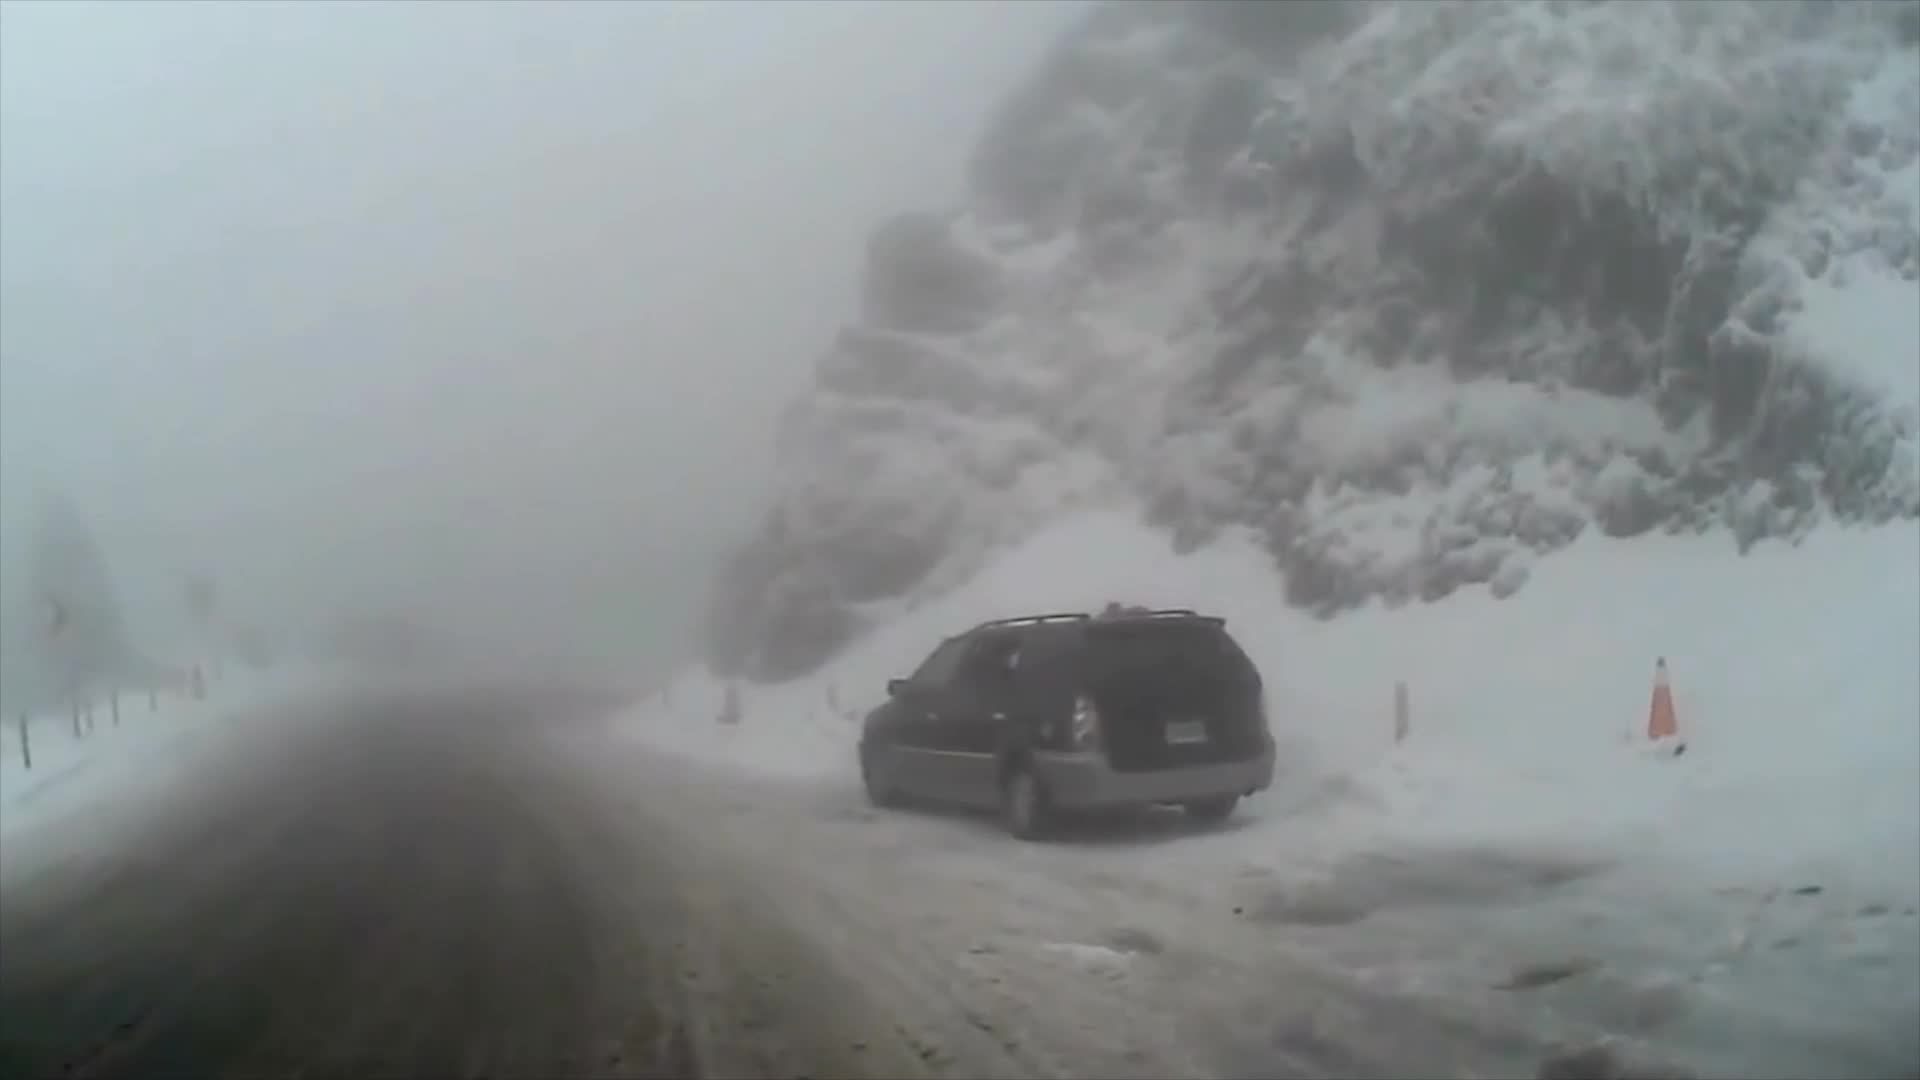vehicle: (855, 607, 1279, 843)
